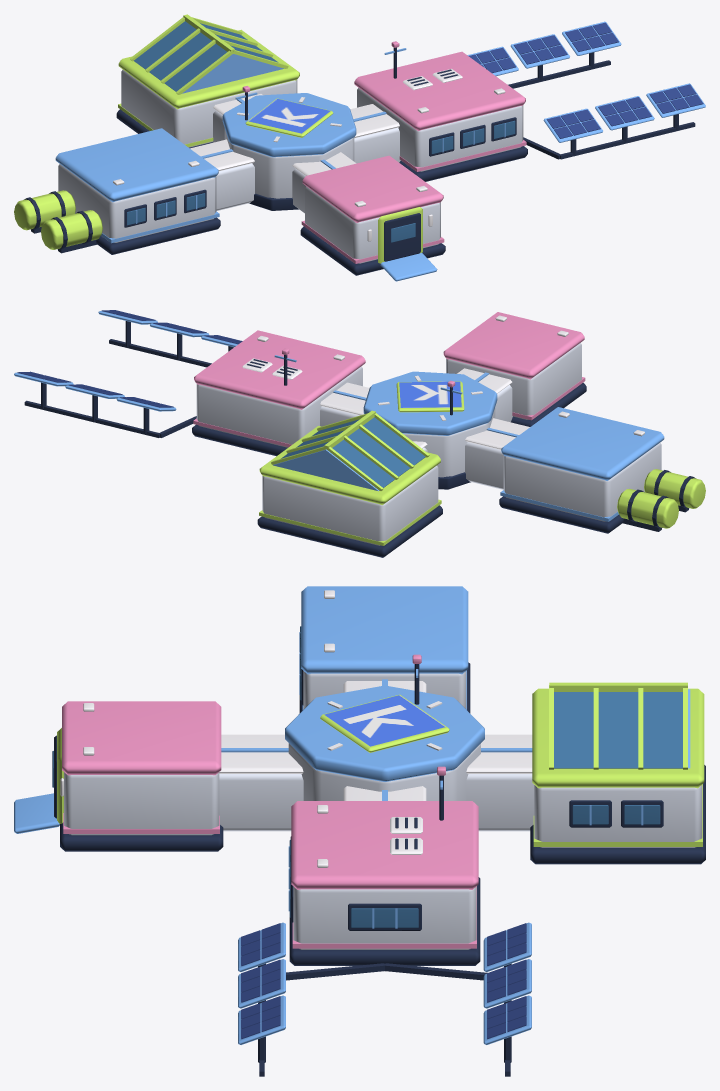
The model's file is EstacionLunar.glb.
The picture shows the model from 3 angles, top to bottom: view 1: azimuth 30°, elevation 25°; view 2: azimuth 150°, elevation 25°; view 3: azimuth 270°, elevation 25°; orthographic projection. The views are drawn at different scales.
Visible parts, largest first — view 1: Laboratorio · cubierta, Hábitat · cubierta, Esclusa · cubierta, Núcleo · cubierta, Hábitat · casco, Invernadero · casco, Laboratorio · casco, Esclusa · casco, Invernadero · cubierta, Núcleo · casco, Logo Kodland original, Depósito exterior (+29 smaller); view 2: Laboratorio · cubierta, Hábitat · cubierta, Invernadero · casco, Hábitat · casco, Esclusa · cubierta, Laboratorio · casco, Núcleo · cubierta, Esclusa · casco, Invernadero · cubierta, Invernadero · zócalo, Núcleo · casco, Cristal frontal del invernadero.001 (+22 smaller); view 3: Laboratorio · cubierta, Hábitat · cubierta, Esclusa · cubierta, Núcleo · cubierta, Esclusa · casco, Laboratorio · casco, Invernadero · casco, Invernadero · cubierta, Pasillo presurizado.003, Núcleo · casco, Pasillo presurizado.002, Laboratorio · zócalo (+20 smaller).
Part boxes in pixels (x1,y1,x2,y2): Laboratorio · cubierta: (354, 51, 525, 131); Hábitat · cubierta: (55, 128, 218, 202); Esclusa · cubierta: (302, 155, 443, 222); Núcleo · cubierta: (222, 93, 356, 157); Hábitat · casco: (58, 164, 216, 242); Invernadero · casco: (121, 69, 297, 147); Laboratorio · casco: (357, 87, 523, 171); Esclusa · casco: (305, 186, 440, 263); Invernadero · cubierta: (118, 29, 299, 109); Núcleo · casco: (224, 128, 354, 198); Logo Kodland original: (248, 98, 330, 133); Depósito exterior: (41, 210, 102, 249); Laboratorio · cubierta: (194, 330, 365, 409); Hábitat · cubierta: (501, 407, 664, 480); Invernadero · casco: (262, 465, 438, 545); Hábitat · casco: (503, 443, 661, 521); Esclusa · cubierta: (443, 312, 584, 379); Laboratorio · casco: (196, 366, 362, 447); Núcleo · cubierta: (363, 371, 497, 435); Esclusa · casco: (446, 343, 581, 419); Invernadero · cubierta: (259, 426, 440, 505); Invernadero · zócalo: (257, 505, 442, 557); Núcleo · casco: (403, 407, 495, 477); Cristal frontal del invernadero.001: (273, 449, 379, 491); Laboratorio · cubierta: (291, 801, 478, 889); Hábitat · cubierta: (301, 586, 468, 674); Esclusa · cubierta: (62, 701, 221, 775); Núcleo · cubierta: (285, 685, 484, 781); Esclusa · casco: (64, 772, 219, 835); Laboratorio · casco: (293, 886, 476, 949); Invernadero · casco: (534, 785, 702, 847); Invernadero · cubierta: (532, 688, 704, 788); Pasillo presurizado.003: (219, 774, 303, 831); Núcleo · casco: (288, 743, 480, 800); Pasillo presurizado.002: (466, 774, 534, 831); Laboratorio · zócalo: (289, 877, 480, 965).
Bounding box in the file's own units: 20.86 × 3.12 × 13.8.
Materials: 9 (1 with a texture image).
